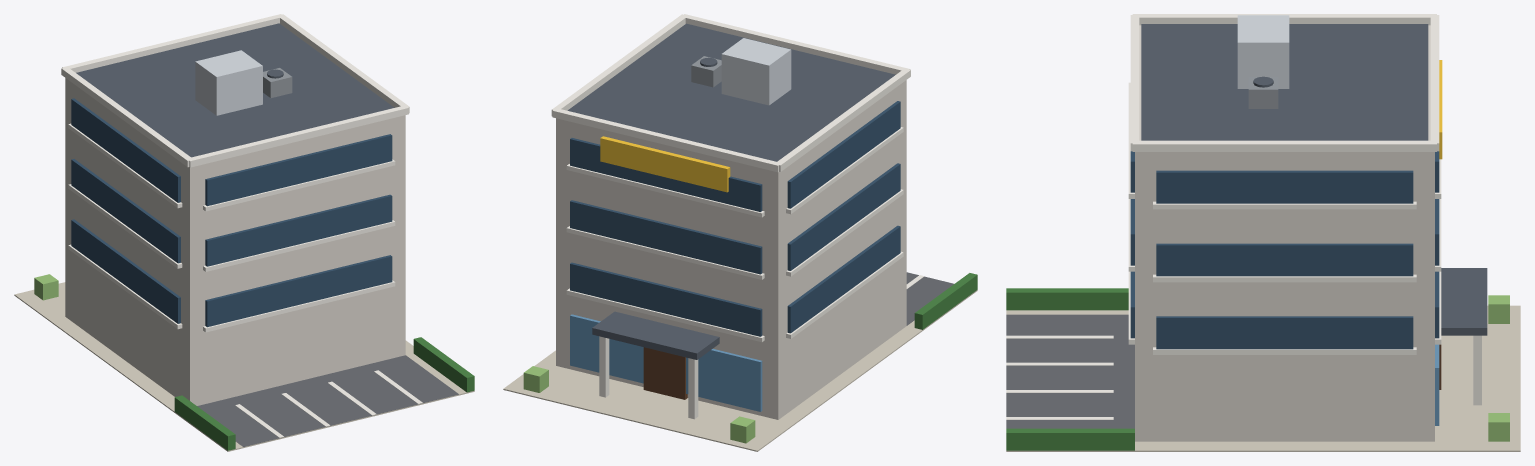
The picture shows the model from 3 angles, left to right: view 1: azimuth 30°, elevation 25°; view 2: azimuth 150°, elevation 25°; view 3: azimuth 270°, elevation 25°; orthographic projection. The views are drawn at different scales.
Parts seen in each view (by area): view 1: block, window_band (×6), roof, car_park, parapet (×4), sill (×6), ground, plant_room, hedge (×2), ac_unit_body, tree_spot; view 2: block, window_band (×6), roof, ground, parapet (×4), storefront, sill (×6), plant_room, sign, canopy, door, hedge (+4 smaller); view 3: block, roof, window_band (×3), car_park, ground, parapet (×4), hedge (×2), sill (×3), plant_room, canopy, tree_spot (×2), ac_unit_body (+1 smaller).
Part boxes in pixels (box(x1,y1,x2,y2)): block: box(65, 78, 405, 405); window_band (×6): box(71, 98, 392, 327); roof: box(76, 23, 394, 157); car_park: box(197, 355, 458, 446); parapet (×4): box(61, 14, 409, 167); sill (×6): box(68, 123, 395, 332); ground: box(14, 282, 474, 451); plant_room: box(195, 50, 262, 115); hedge (×2): box(174, 337, 474, 450); ac_unit_body: box(263, 68, 292, 97); tree_spot: box(34, 274, 58, 300); block: box(556, 80, 906, 419); window_band (×6): box(570, 101, 900, 336); roof: box(567, 23, 895, 161); ground: box(503, 290, 977, 451); parapet (×4): box(551, 14, 910, 172); storefront: box(570, 314, 762, 411); sill (×6): box(566, 127, 903, 342); plant_room: box(721, 38, 791, 105); sign: box(600, 136, 730, 192); canopy: box(592, 311, 719, 359); door: box(643, 347, 687, 399); hedge: box(914, 273, 977, 329); block: box(1135, 25, 1434, 441); roof: box(1141, 24, 1428, 140); window_band (×3): box(1156, 170, 1413, 349); car_park: box(1006, 314, 1134, 428); ground: box(1006, 305, 1520, 451); parapet (×4): box(1130, 14, 1439, 151); hedge (×2): box(1006, 288, 1134, 450); sill (×3): box(1153, 201, 1416, 354); plant_room: box(1237, 15, 1289, 88); canopy: box(1441, 268, 1487, 335); tree_spot (×2): box(1488, 295, 1509, 441); ac_unit_body: box(1248, 77, 1278, 108).
Size of the model in its own units: 16 by 17.59 by 24.
